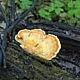Sulphur-yellow tinder fungus: (15, 29, 60, 59)
